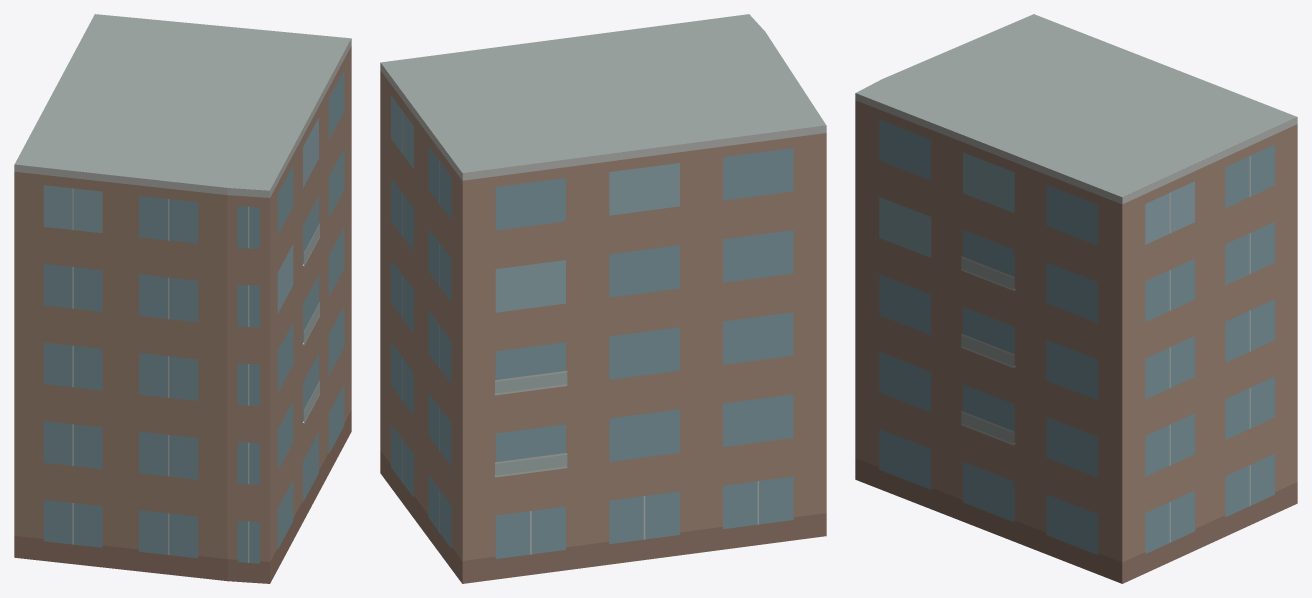
Rendered from survey-upis-32846977.glb.
The picture shows the model from 3 angles, left to right: view 1: azimuth 30°, elevation 25°; view 2: azimuth 150°, elevation 25°; view 3: azimuth 270°, elevation 25°; orthographic projection. The views are drawn at different scales.
Parts seen in each view (by area): view 1: survey-upis-32846977.tmp; view 2: survey-upis-32846977.tmp; view 3: survey-upis-32846977.tmp.
Part boxes in pixels (left/top/right/bottom): survey-upis-32846977.tmp: left=14, top=14, right=351, bottom=583; survey-upis-32846977.tmp: left=380, top=14, right=826, bottom=583; survey-upis-32846977.tmp: left=855, top=14, right=1297, bottom=583.
Bounding box in the file's own units: 13.48 × 13.25 × 13.74.
